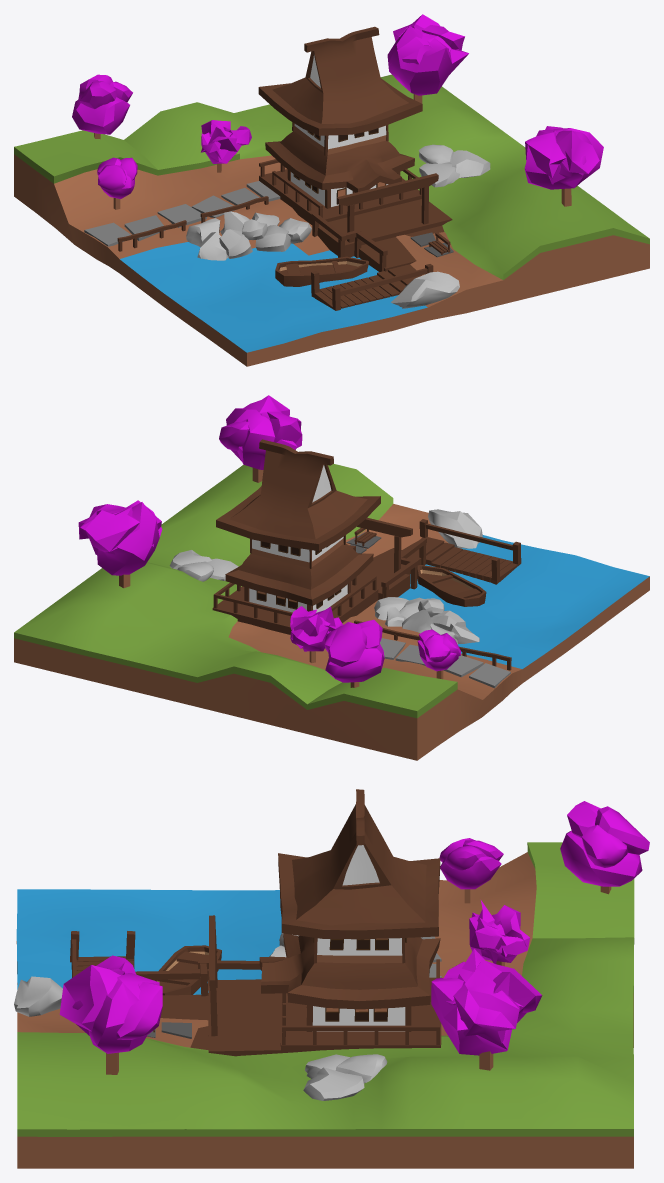
Rendered from mapa 1.obj.
3 views of the same model, one above another, from view 1: azimuth 30°, elevation 25°; view 2: azimuth 150°, elevation 25°; view 3: azimuth 270°, elevation 25° (orthographic). The views are drawn at different scales.
Visible parts, largest first — view 1: Old_Japanese_House_Cube.002; view 2: Old_Japanese_House_Cube.002; view 3: Old_Japanese_House_Cube.002.
Boxes of the visible parts, x1,y1,x2,y2 form: Old_Japanese_House_Cube.002: (14, 14, 649, 366); Old_Japanese_House_Cube.002: (14, 395, 649, 760); Old_Japanese_House_Cube.002: (14, 789, 649, 1168).
Size of the model in its own units: 2.03 by 0.8715 by 2.06.
